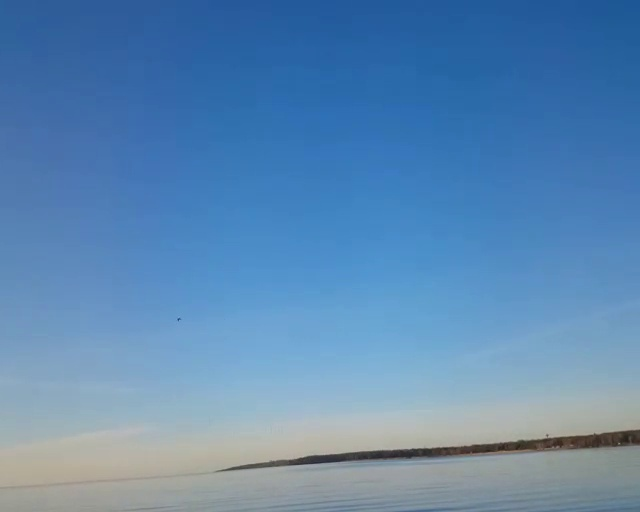BIRD: (175, 315, 183, 324)
